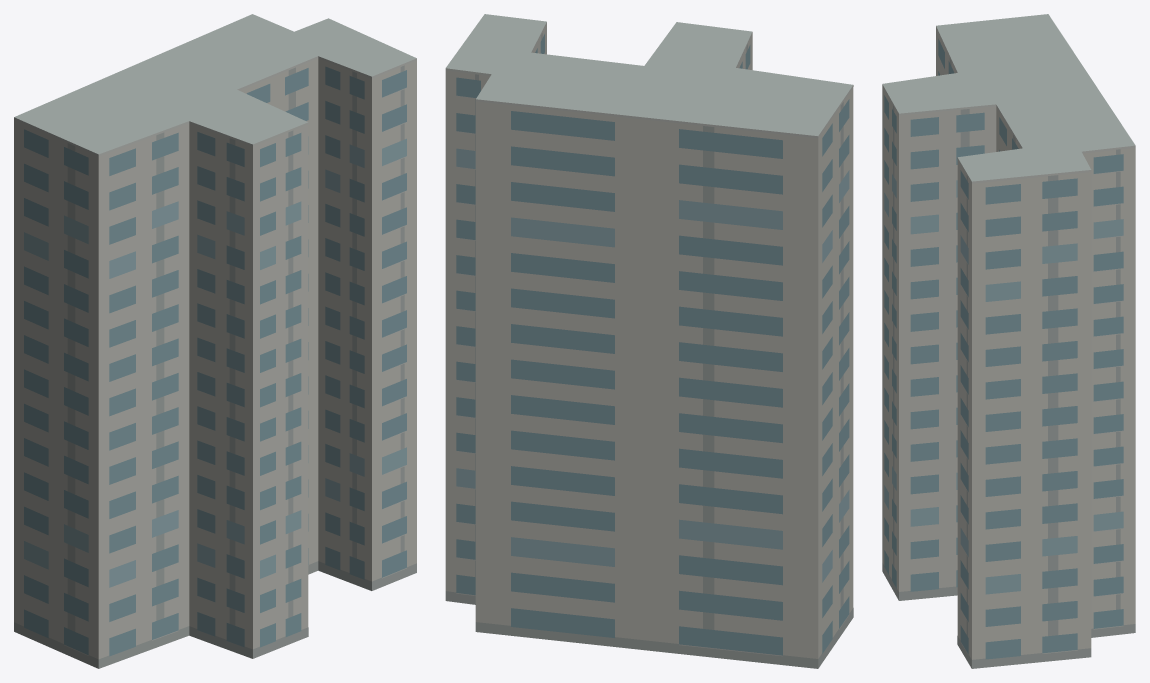
File: residential-157be9fc-4621-46e1-9bbf-d7d8cd219d61.glb
3 renders of one model, left to right at view 1: azimuth 30°, elevation 25°; view 2: azimuth 150°, elevation 25°; view 3: azimuth 270°, elevation 25°, orthographic. The views are drawn at different scales.
Parts seen in each view (by area): view 1: residential-157be9fc-4621-46e1-9bbf-d7d8cd219d61.tmp; view 2: residential-157be9fc-4621-46e1-9bbf-d7d8cd219d61.tmp; view 3: residential-157be9fc-4621-46e1-9bbf-d7d8cd219d61.tmp.
Boxes of the visible parts, x1=… form: residential-157be9fc-4621-46e1-9bbf-d7d8cd219d61.tmp: x1=14, y1=14, x2=416, y2=668; residential-157be9fc-4621-46e1-9bbf-d7d8cd219d61.tmp: x1=445, y1=14, x2=853, y2=668; residential-157be9fc-4621-46e1-9bbf-d7d8cd219d61.tmp: x1=882, y1=14, x2=1135, y2=668.
Size of the model in its own units: 44.25 by 60 by 28.29.
